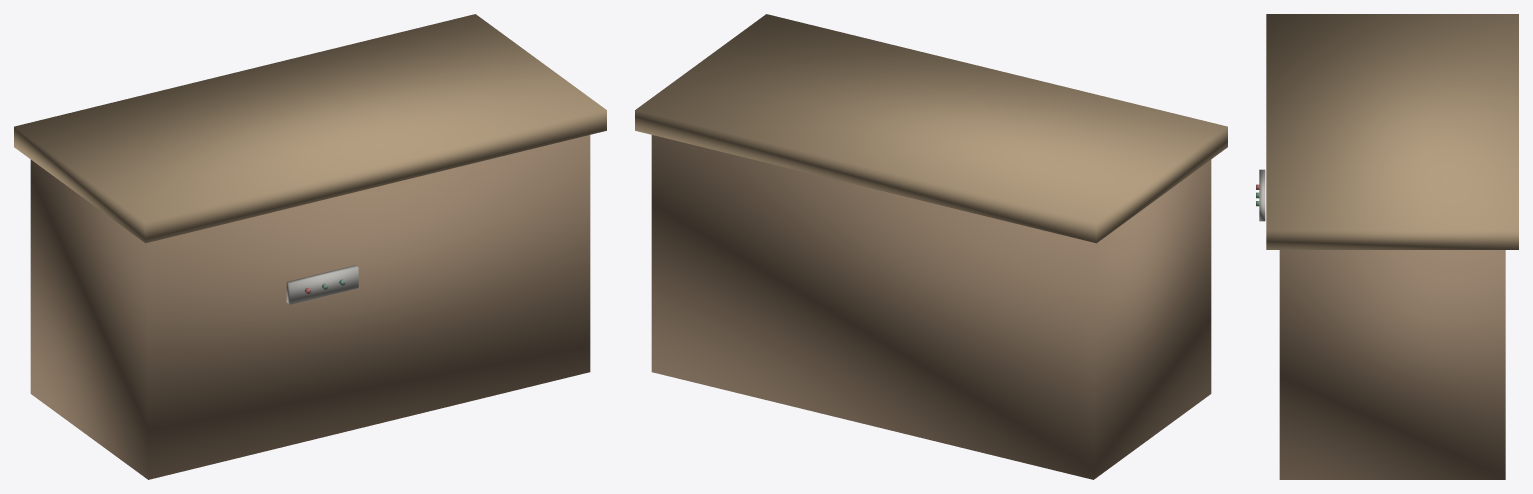
File: clinic_reception_counter__deep.glb
3 views of the same model, side by side, from view 1: azimuth 30°, elevation 25°; view 2: azimuth 150°, elevation 25°; view 3: azimuth 270°, elevation 25° (orthographic). The views are drawn at different scales.
Visible parts, largest first — view 1: world; view 2: world; view 3: world.
Part boxes in pixels (x1,y1,x2,y2): world: [14, 14, 606, 479]; world: [635, 14, 1227, 479]; world: [1256, 14, 1518, 479].
Bounding box in the file's own units: 1.88 × 1.03 × 0.965.
